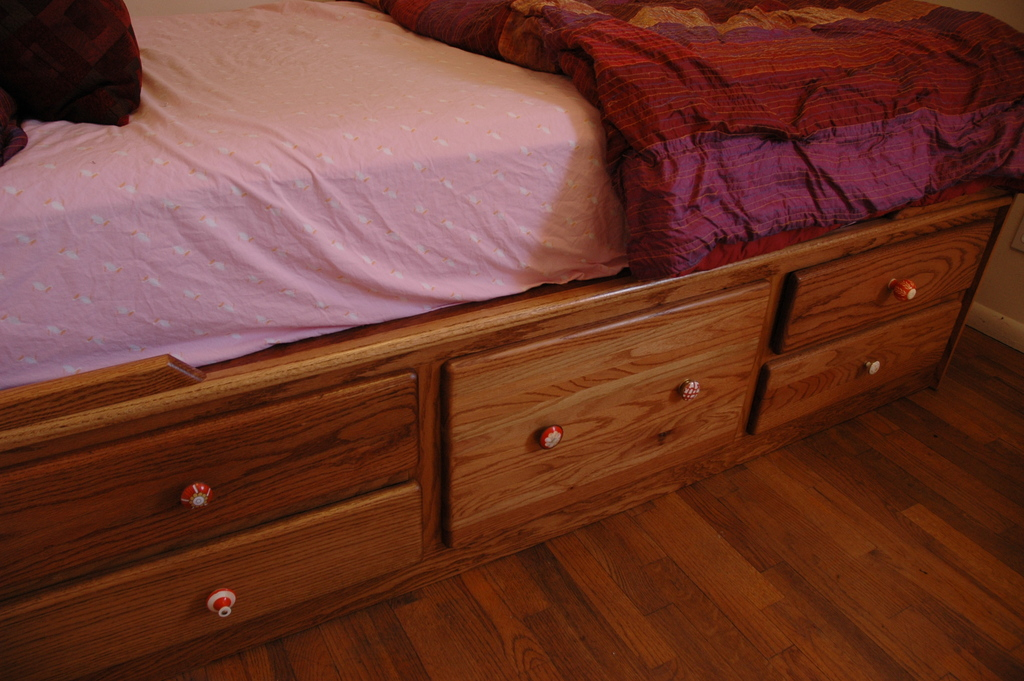cabinet door: (473, 357, 737, 456), (10, 443, 414, 498), (42, 577, 402, 608), (806, 261, 970, 302), (781, 351, 945, 381)
handle: (530, 419, 572, 453), (182, 481, 215, 513), (203, 588, 235, 620), (861, 354, 888, 380), (892, 281, 918, 306), (680, 377, 701, 405)
